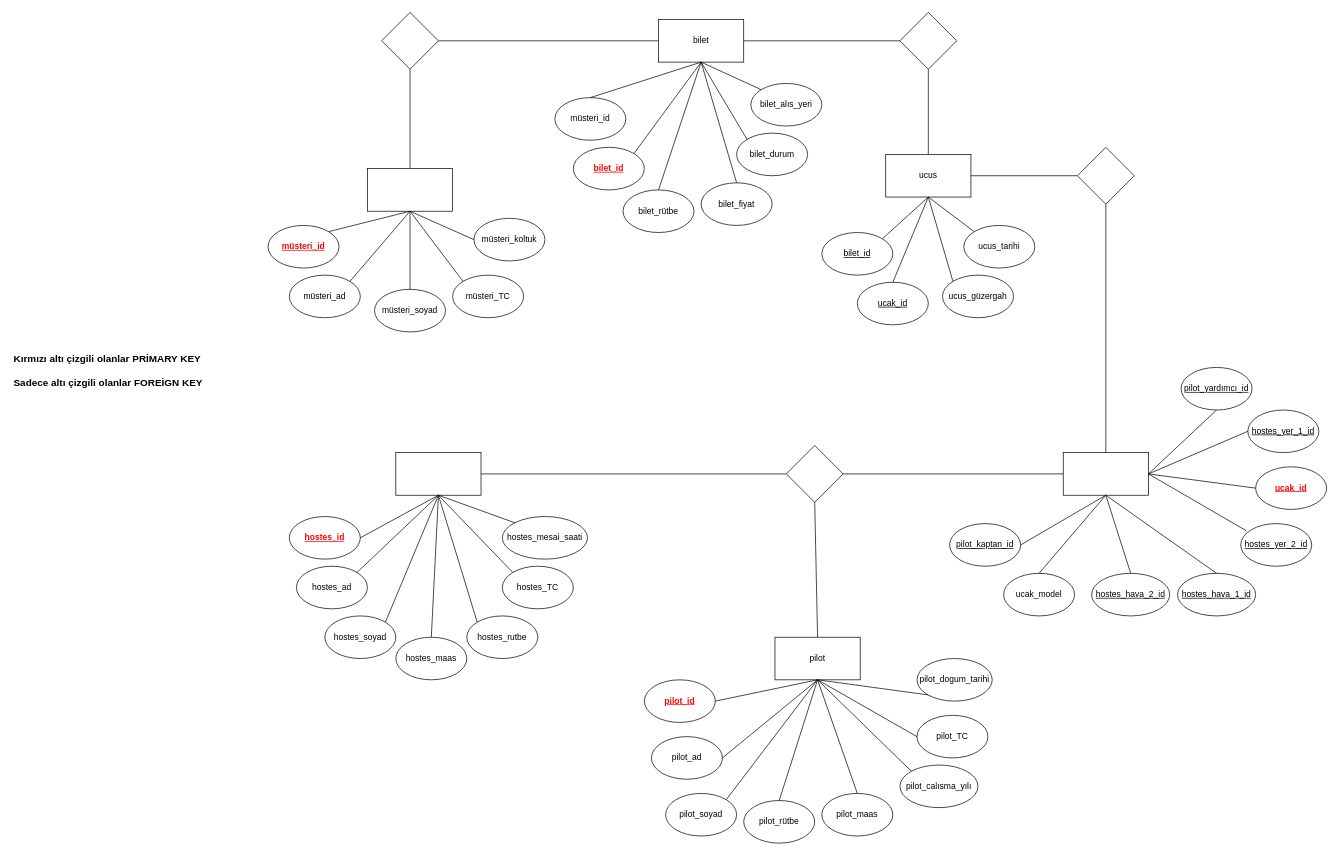
Some shapes in this 1339 by 856 pixel diagram are drawn without their labels. The centre of each missing label's shape, as x and y in pixels:
"Alır" belongs at point (409, 40).
"Ayarlanır" belongs at point (1105, 175).
"hostes" belongs at point (438, 473).
"müsteri" belongs at point (410, 189).
"Planlanır" belongs at point (928, 40).
"ucak" belongs at point (1105, 473).
"Yardım Eder" belongs at point (814, 473).
